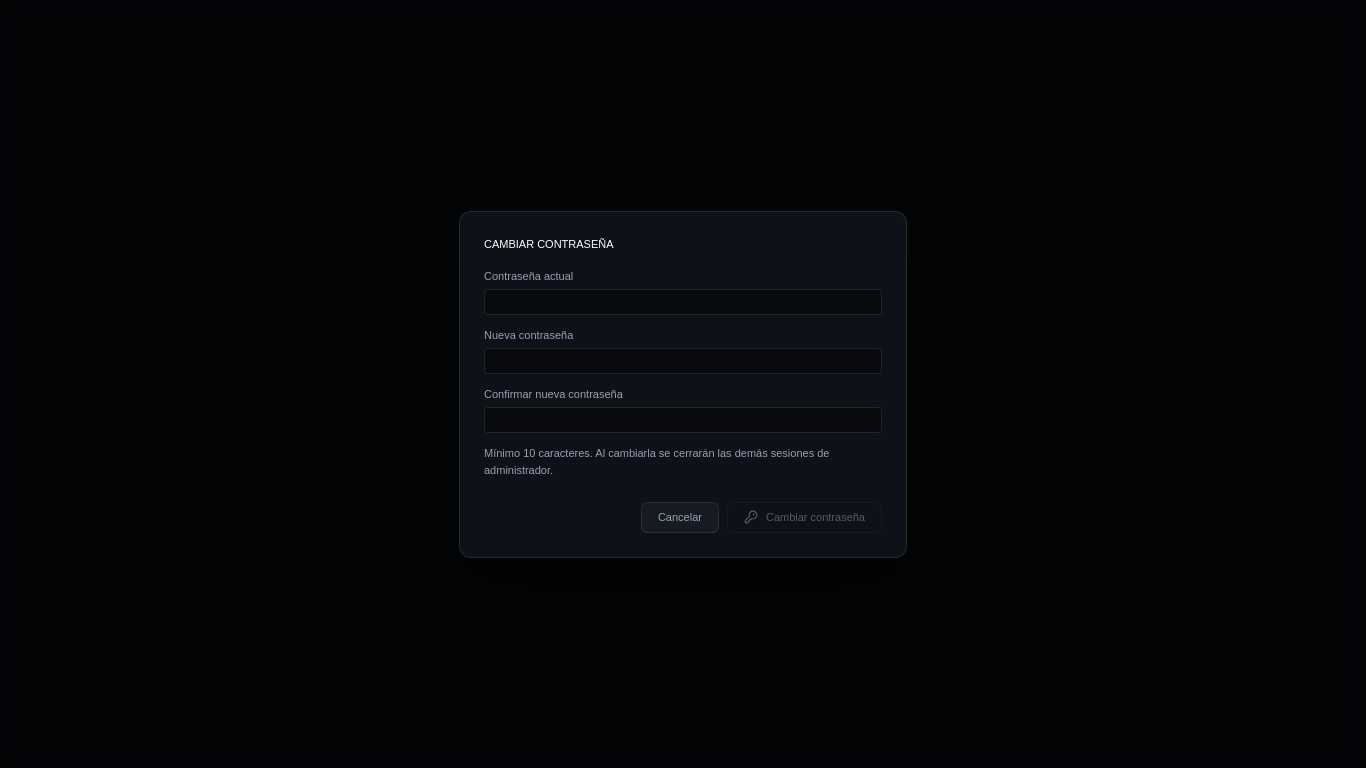
Scenario: AdminPasswordChangeDialog › sends the passwords, clears every field and confirms on success
Type "correct horse battery staple" into the password field labelled "Contraseña actual" at x=683, y=302, box [484,288,882,315]
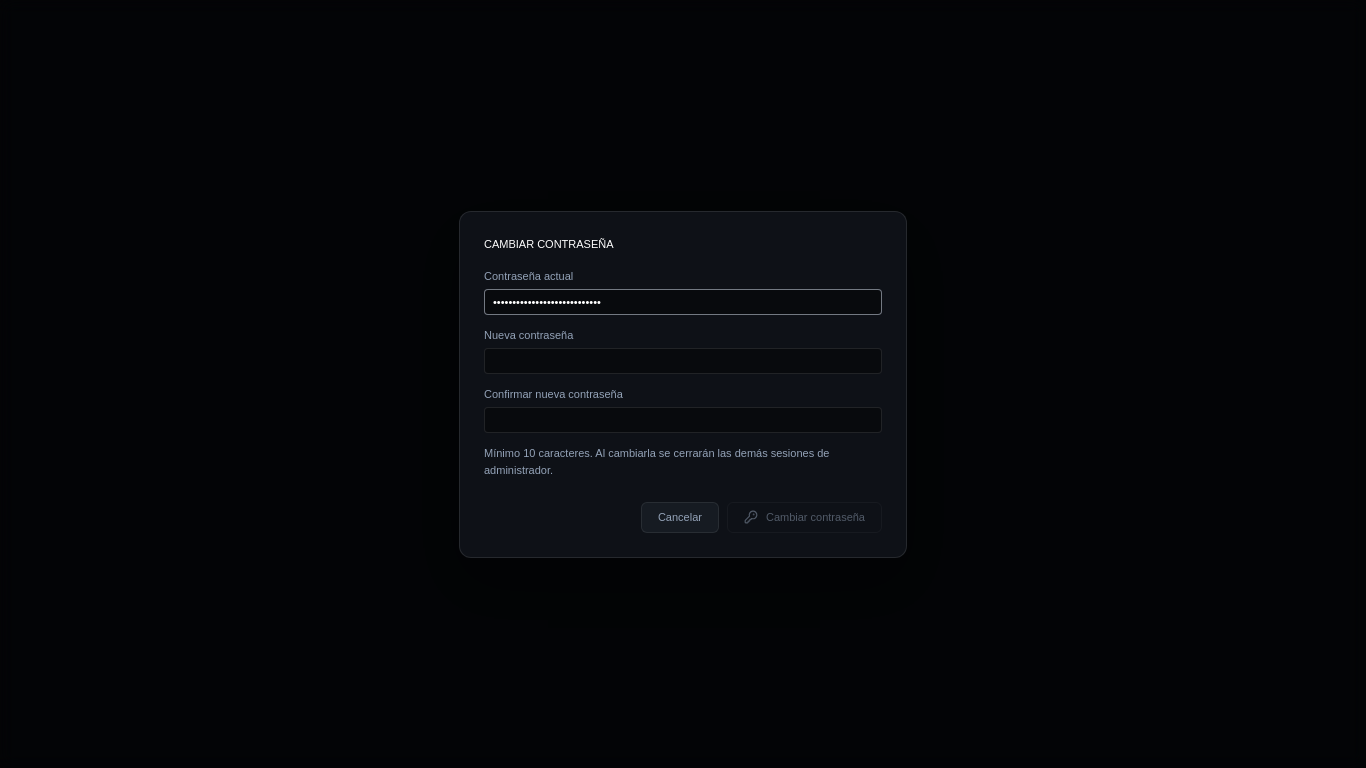
Type "a different durable passphrase" into the password field labelled "Nueva contraseña" at x=683, y=361, box [484,348,882,374]
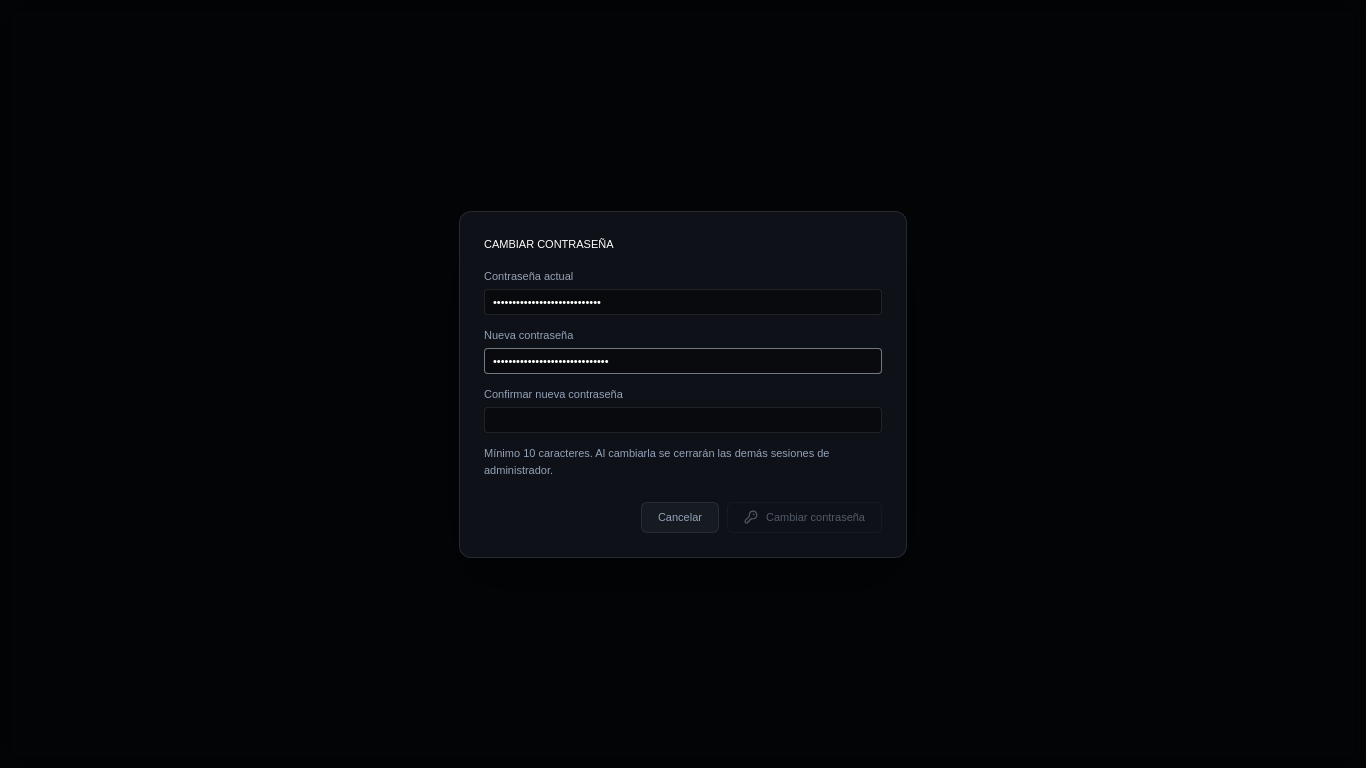
Type "a different durable passphrase" into the password field labelled "Confirmar nueva contraseña" at x=683, y=420, box [484,406,882,433]
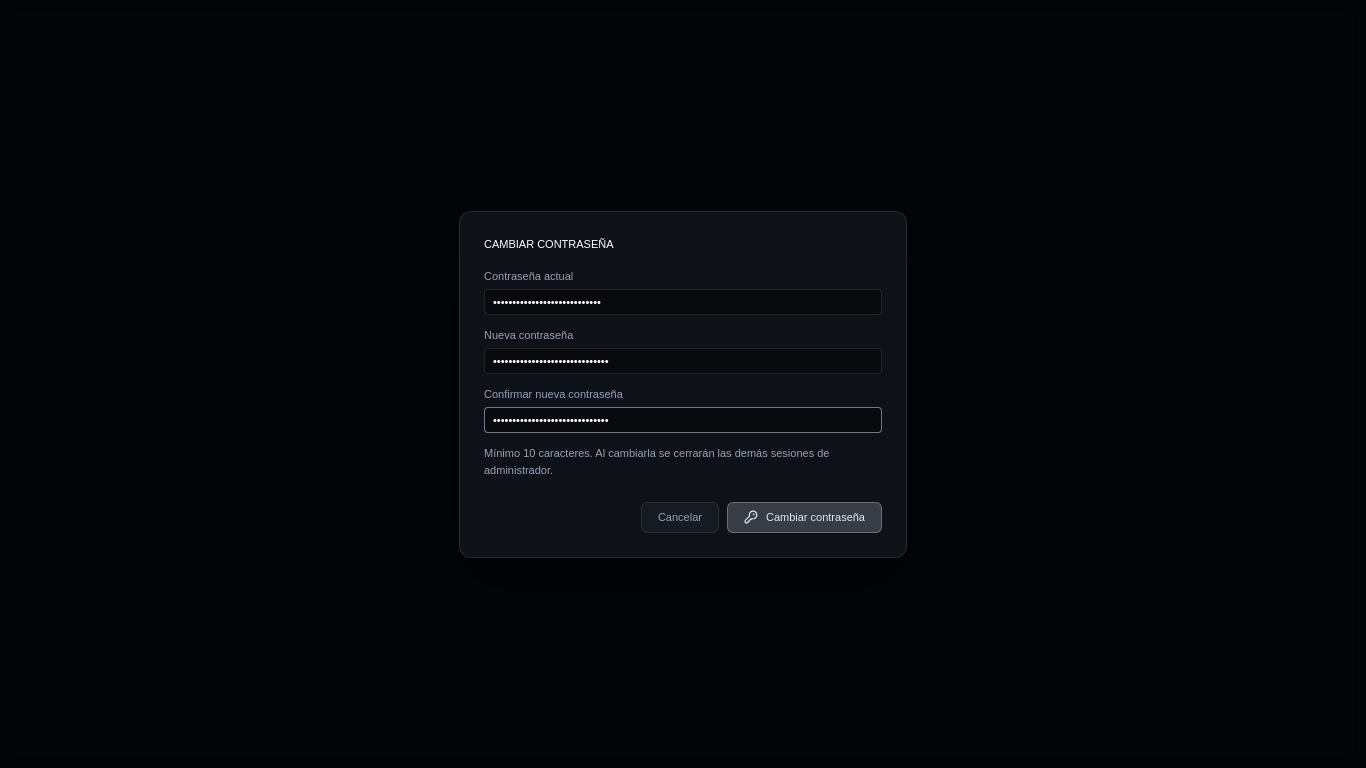
Click the button "Cambiar contraseña" at x=804, y=517, box [727,502,882,532]
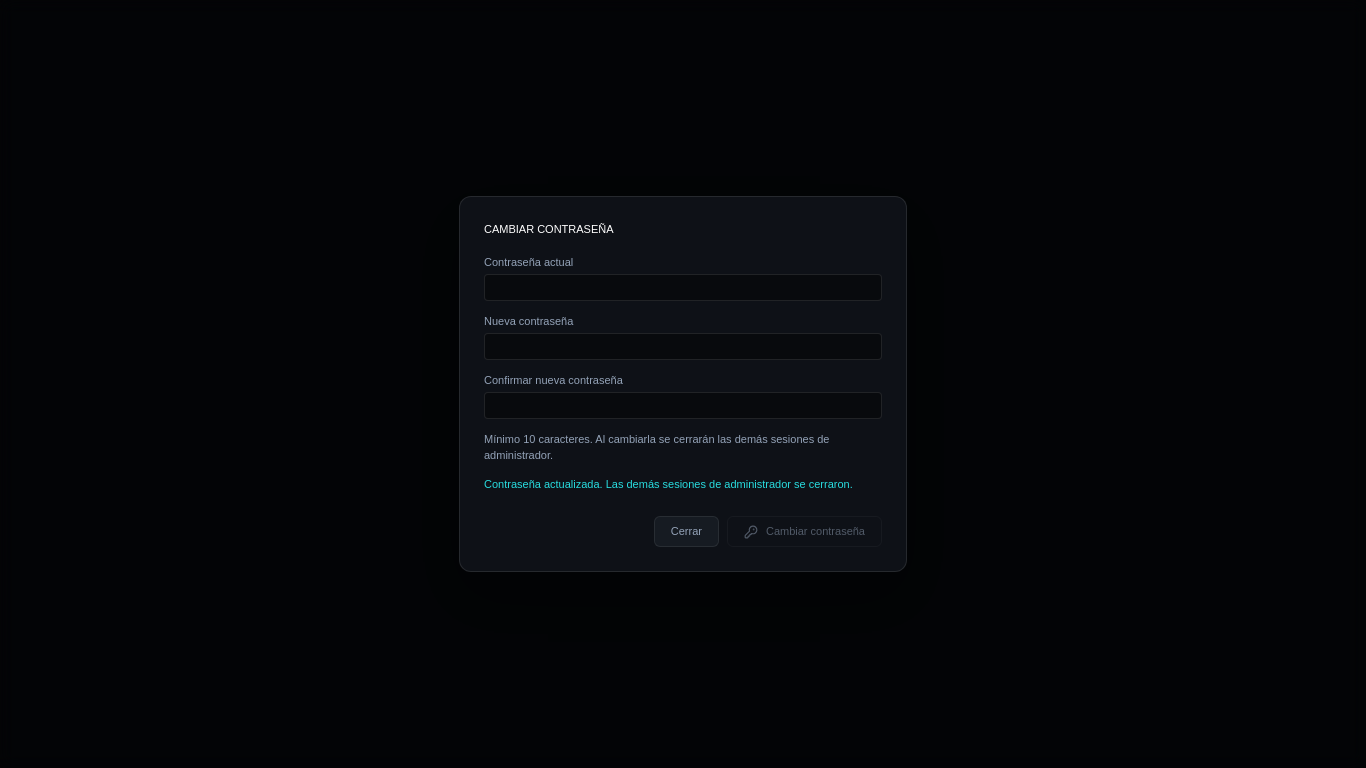
Now the message shows "Contraseña actualizada", box [484,478,853,490]
Now the password field labelled "Contraseña actual" is empty, box [484,274,882,301]
Now the password field labelled "Nueva contraseña" is empty, box [484,333,882,360]
